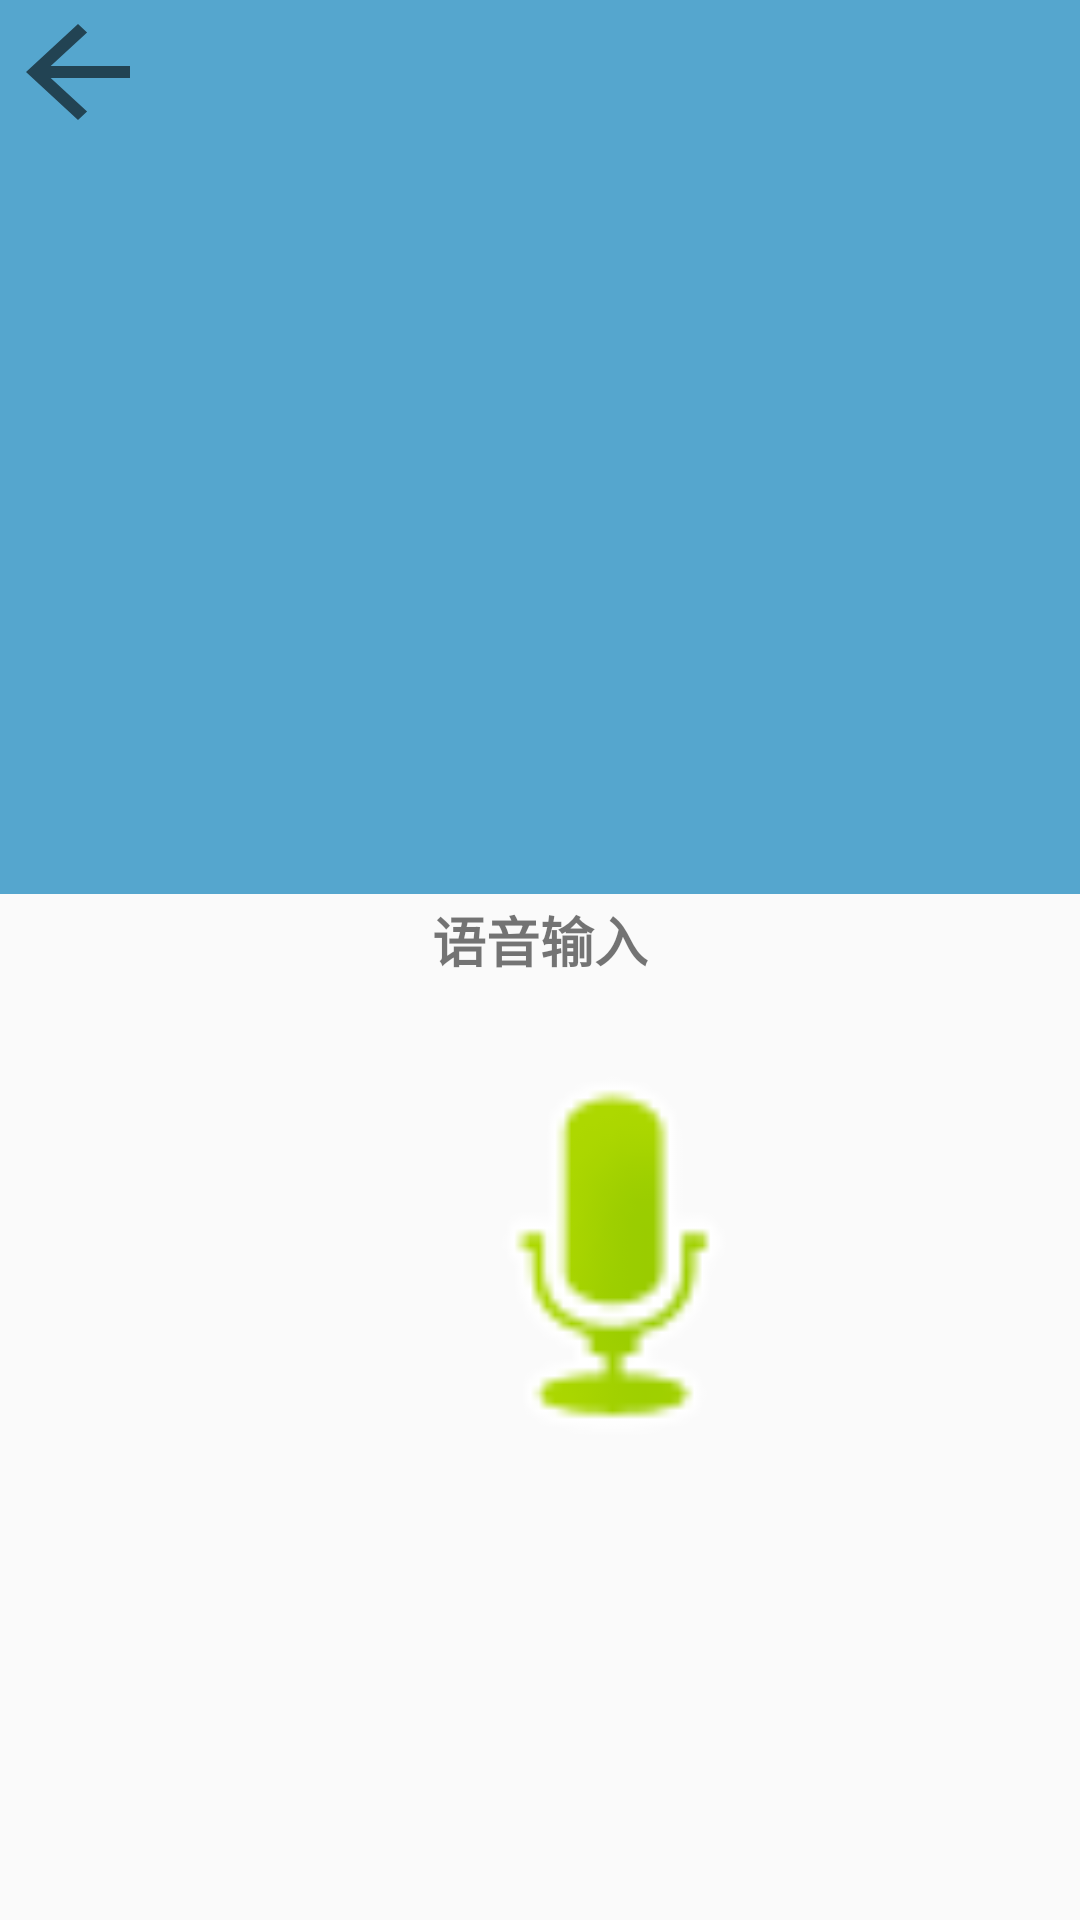

Screen size 1080 × 1920. Icon name, then its center in pixels as [x,y]:
presence audio online: [613,1254]
